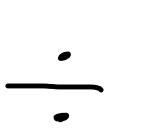div: (6, 51, 103, 122)
